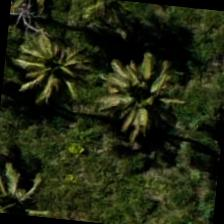Kelapa_Sawit: (98, 35, 198, 134), (0, 14, 88, 112), (47, 0, 143, 52), (0, 137, 56, 219)
